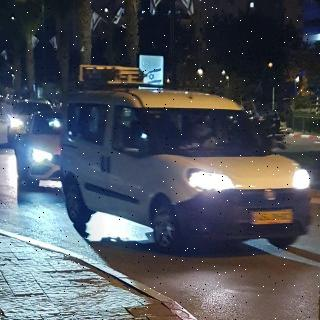LicensePlate: (253, 210, 293, 224)
